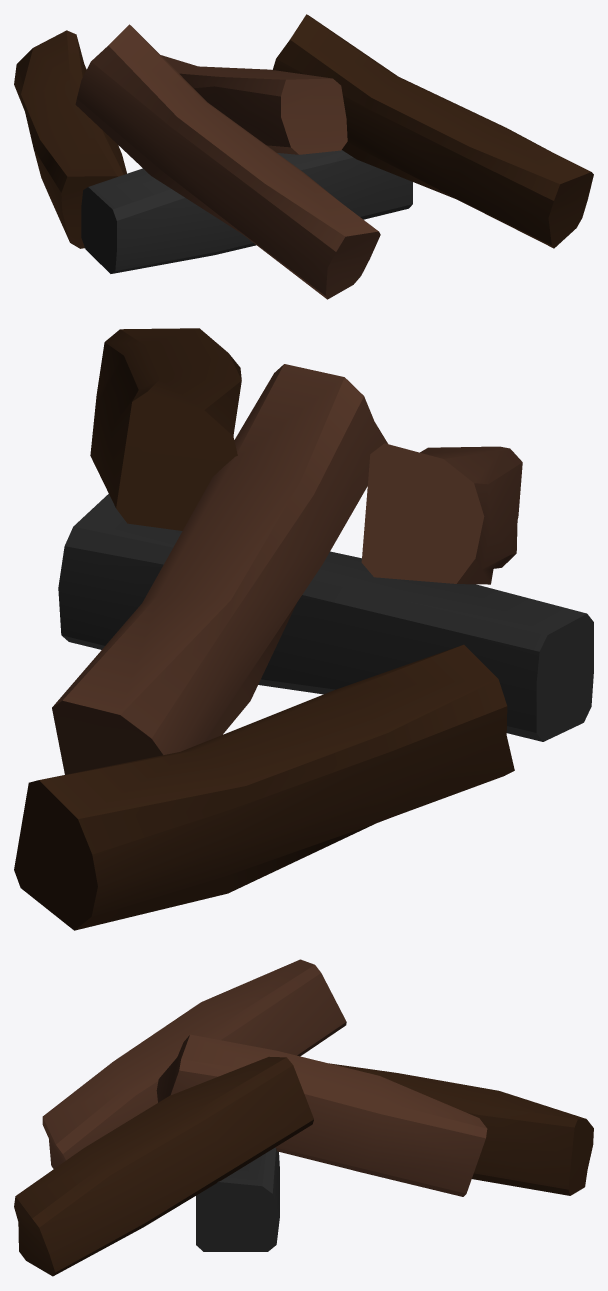
File: Logs.fbx
The picture shows the model from 3 angles, top to bottom: view 1: azimuth 30°, elevation 25°; view 2: azimuth 150°, elevation 25°; view 3: azimuth 270°, elevation 25°; orthographic projection. The views are drawn at different scales.
Visible parts, largest first — view 1: polySurface1; view 2: polySurface1; view 3: polySurface1.
Part boxes in pixels (<box>): polySurface1: <box>14,14,593,299</box>; polySurface1: <box>14,328,593,930</box>; polySurface1: <box>14,959,593,1276</box>.
Bounding box in the file's own units: 26.8 × 13.87 × 36.29.
